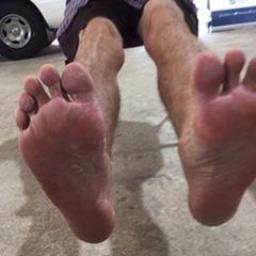Plantar View -Both Feet-: (10, 43, 255, 245)
